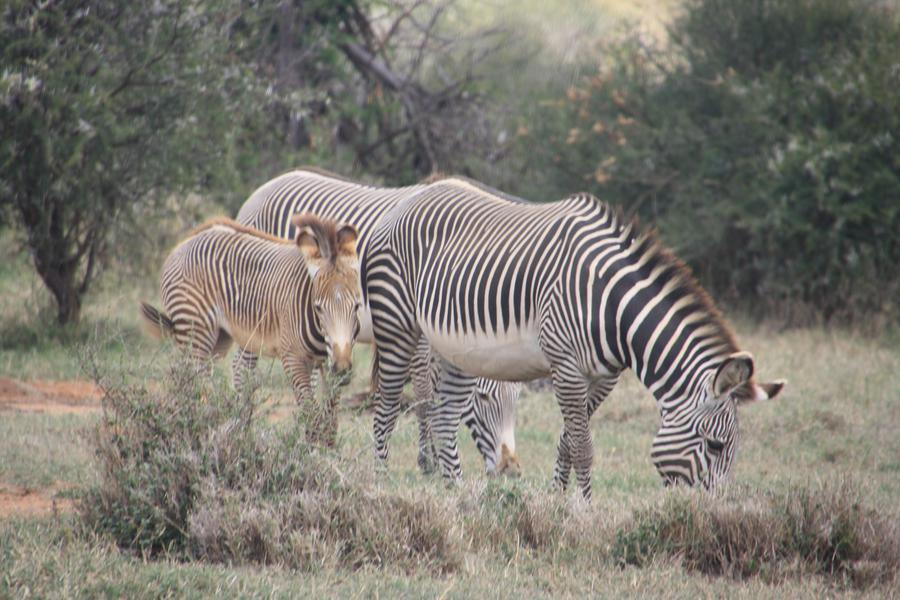zebra_grevys: (154, 213, 313, 361)
